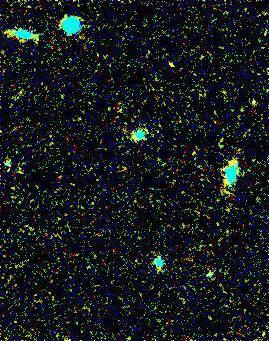star: (149, 51, 179, 81)
